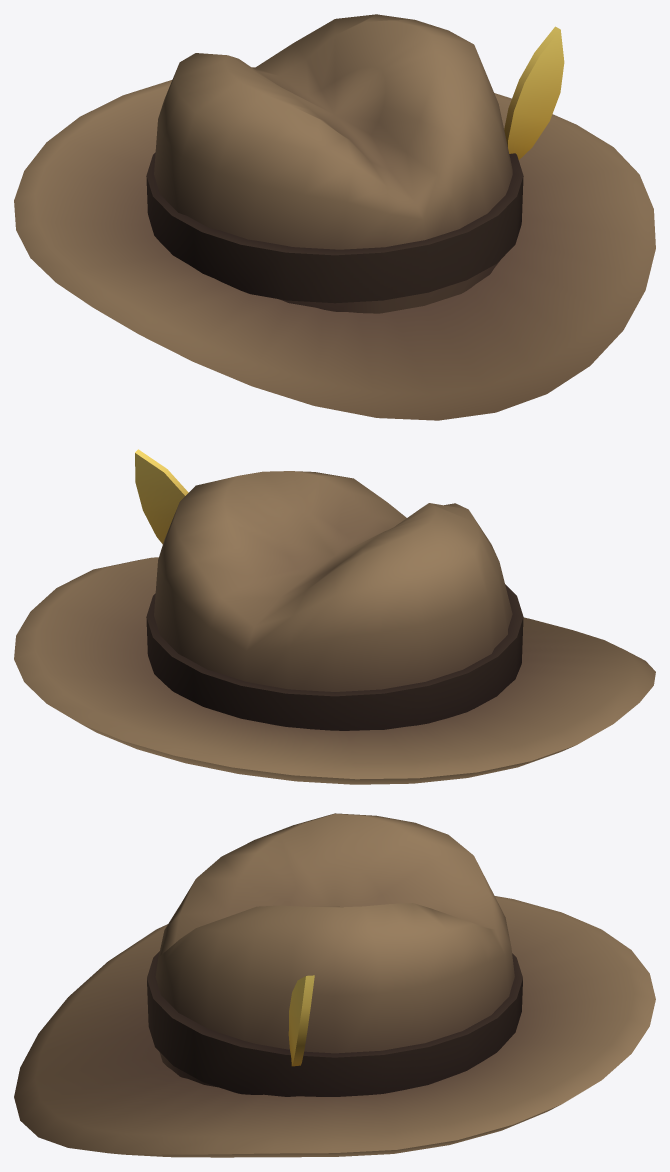
File: fedora.glb
3 renders of one model, top to bottom at view 1: azimuth 30°, elevation 25°; view 2: azimuth 150°, elevation 25°; view 3: azimuth 270°, elevation 25°, orthographic.
Parts seen in each view (by area): view 1: fedora; view 2: fedora; view 3: fedora.
Boxes of the visible parts, left/top/right/bottom form: fedora: left=14, top=14, right=655, bottom=420; fedora: left=14, top=449, right=655, bottom=784; fedora: left=14, top=813, right=655, bottom=1157.
Bounding box in the file's own units: 0.36 × 0.148 × 0.36.
